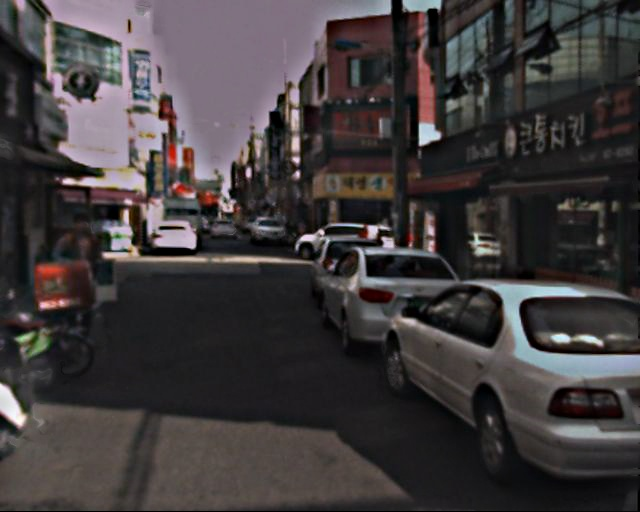person: (50, 212, 116, 351), (354, 222, 374, 269)
